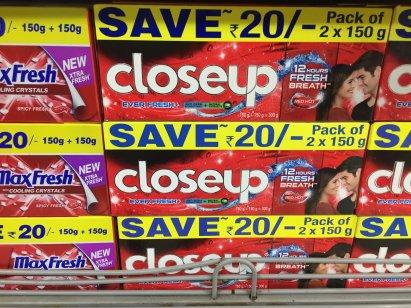CloseUp: (102, 117, 372, 227)
